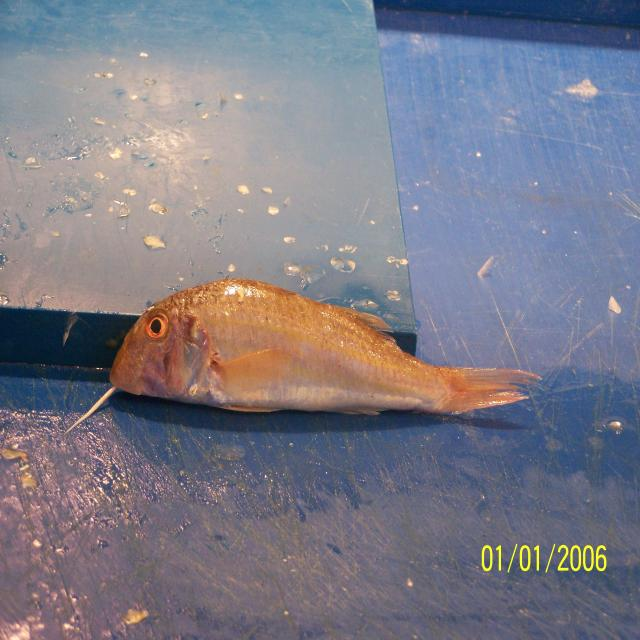Striped-Red-Mullet-tekir-: (109, 279, 539, 417)
